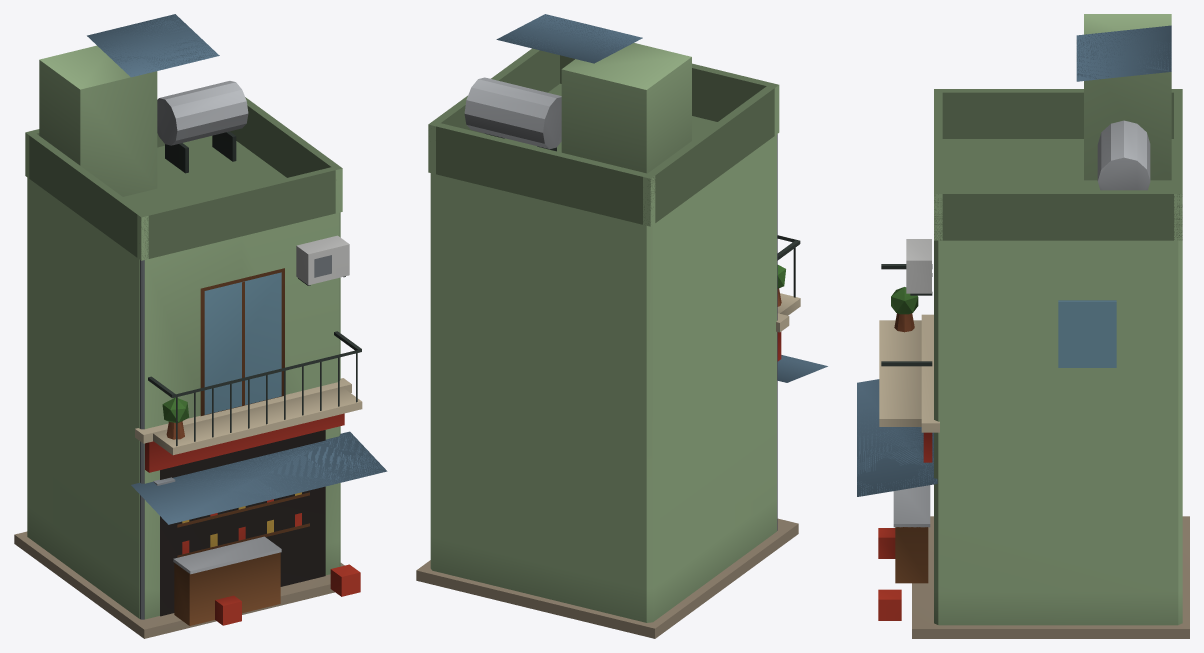
The model's file is nha-2-tang.glb.
3 views of the same model, side by side, from view 1: azimuth 30°, elevation 25°; view 2: azimuth 150°, elevation 25°; view 3: azimuth 270°, elevation 25° (orthographic). The views are drawn at different scales.
Parts seen in each view (by area): view 1: nha-2-tang; view 2: nha-2-tang; view 3: nha-2-tang.
Boxes of the visible parts, <box> form: nha-2-tang: <box>14,14,387,638</box>; nha-2-tang: <box>416,14,827,638</box>; nha-2-tang: <box>857,14,1189,638</box>.
Size of the model in its own units: 3.7 by 8.05 by 4.55.
